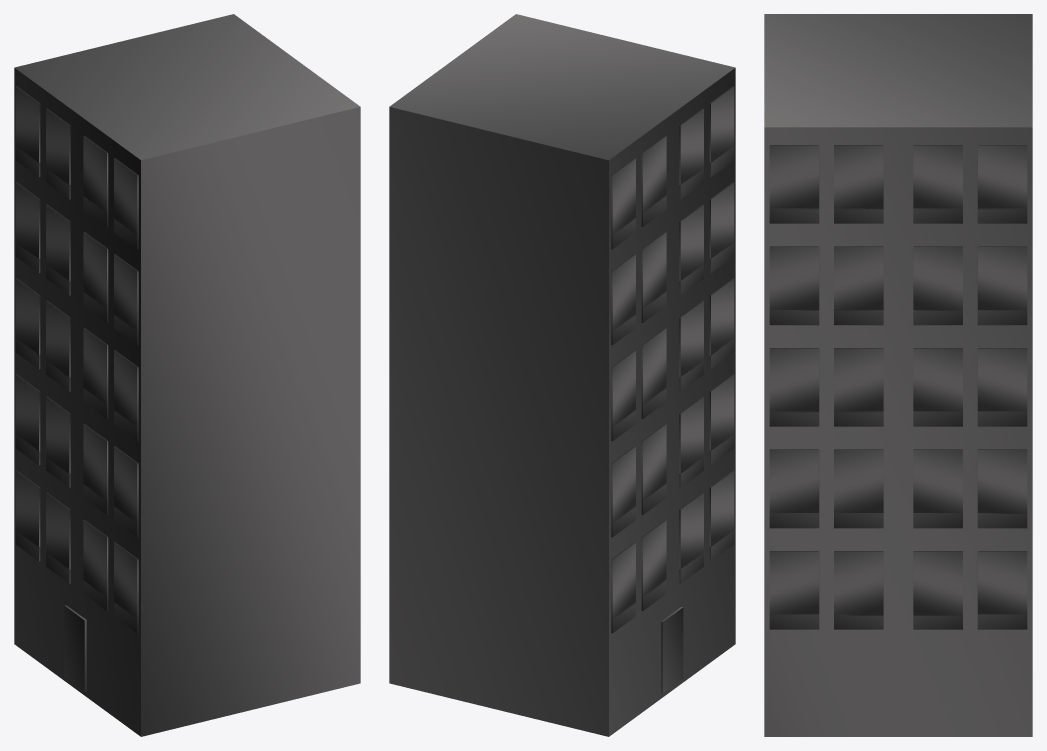
Rendered from tallbuilding.fbx.
3 views of the same model, side by side, from view 1: azimuth 30°, elevation 25°; view 2: azimuth 150°, elevation 25°; view 3: azimuth 270°, elevation 25° (orthographic). The views are drawn at different scales.
Parts seen in each view (by area): view 1: Cube, Cube.001, Cube.003; view 2: Cube, Cube.001, Cube.003; view 3: Cube, Cube.001.
Part boxes in pixels (x1,y1,x2,y2): Cube: (14, 14, 360, 736); Cube.001: (15, 86, 138, 633); Cube.003: (64, 605, 86, 691); Cube: (389, 14, 735, 736); Cube.001: (611, 86, 734, 633); Cube.003: (661, 607, 683, 693); Cube: (764, 14, 1032, 736); Cube.001: (769, 145, 1027, 629).
Bounding box in the file's own units: 2190 × 5416 × 2158.
